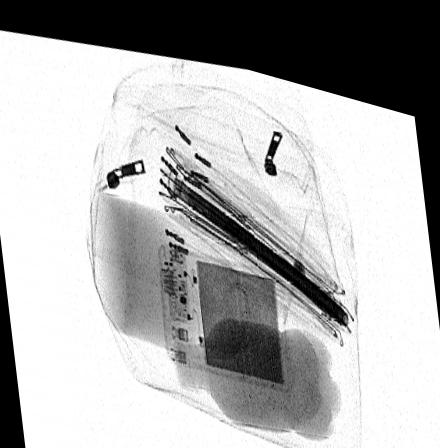Powerbank: (155, 234, 294, 379)
